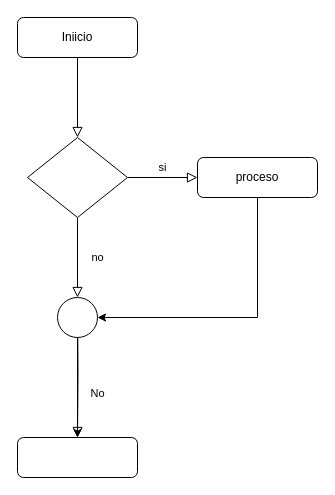
The diagram is 335 pixels wide and 495 high, and some of its shapes have lost their labels. The shapes that lost their labels are listed below. From the top down, each one's box as (x1, y1, x2, y2) in pixels, then its label:
(26, 136, 128, 218): si condicion
(16, 436, 138, 478): Fin
